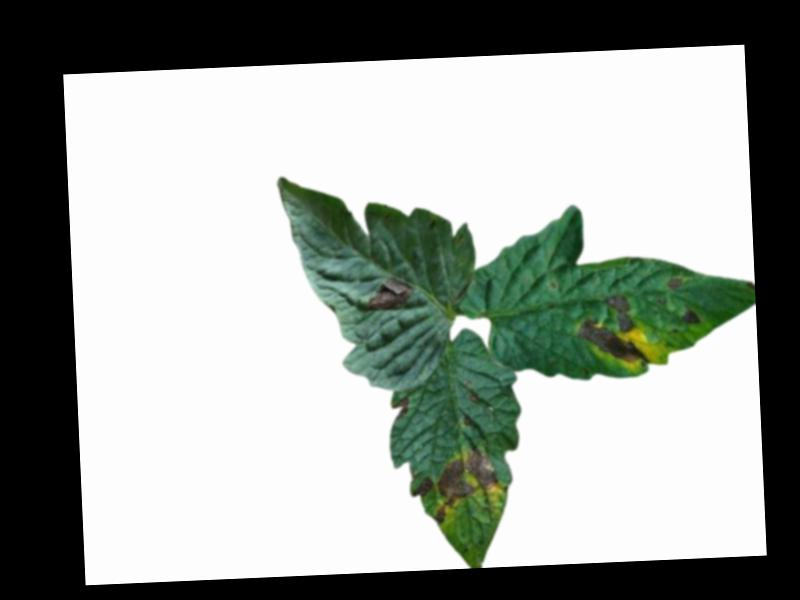Early_blight: (573, 293, 650, 368), (431, 443, 500, 525), (367, 275, 413, 311), (410, 475, 434, 499), (393, 396, 410, 418), (680, 308, 699, 325), (665, 276, 681, 287)
